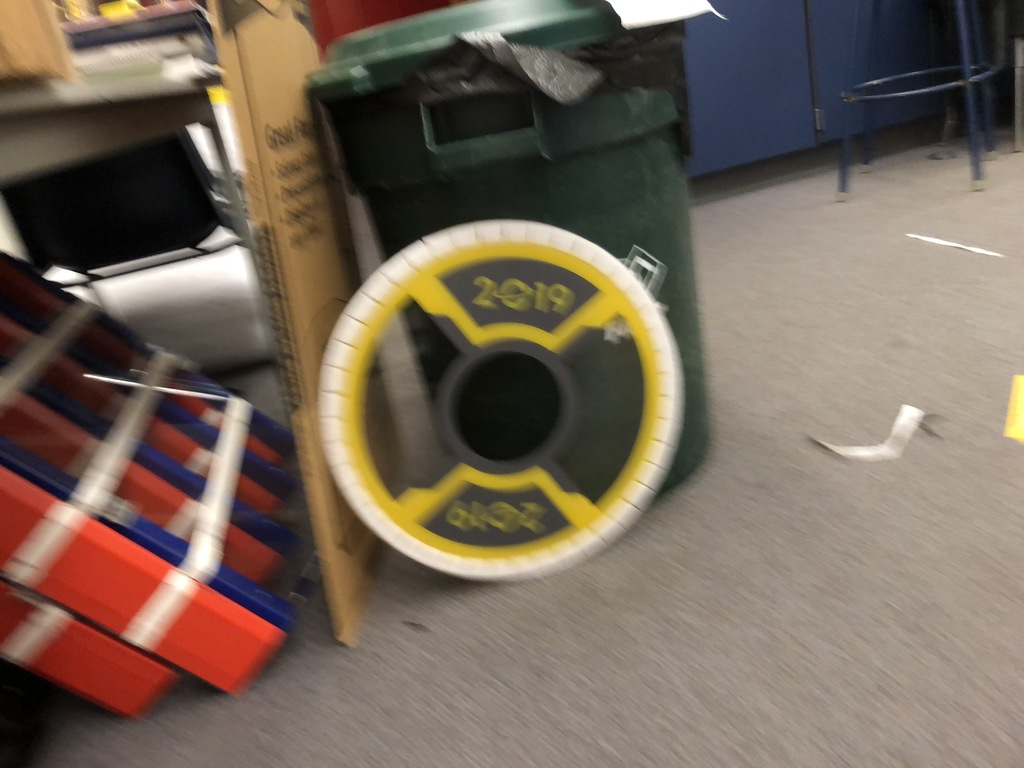hatch_panel: (291, 205, 722, 601)
